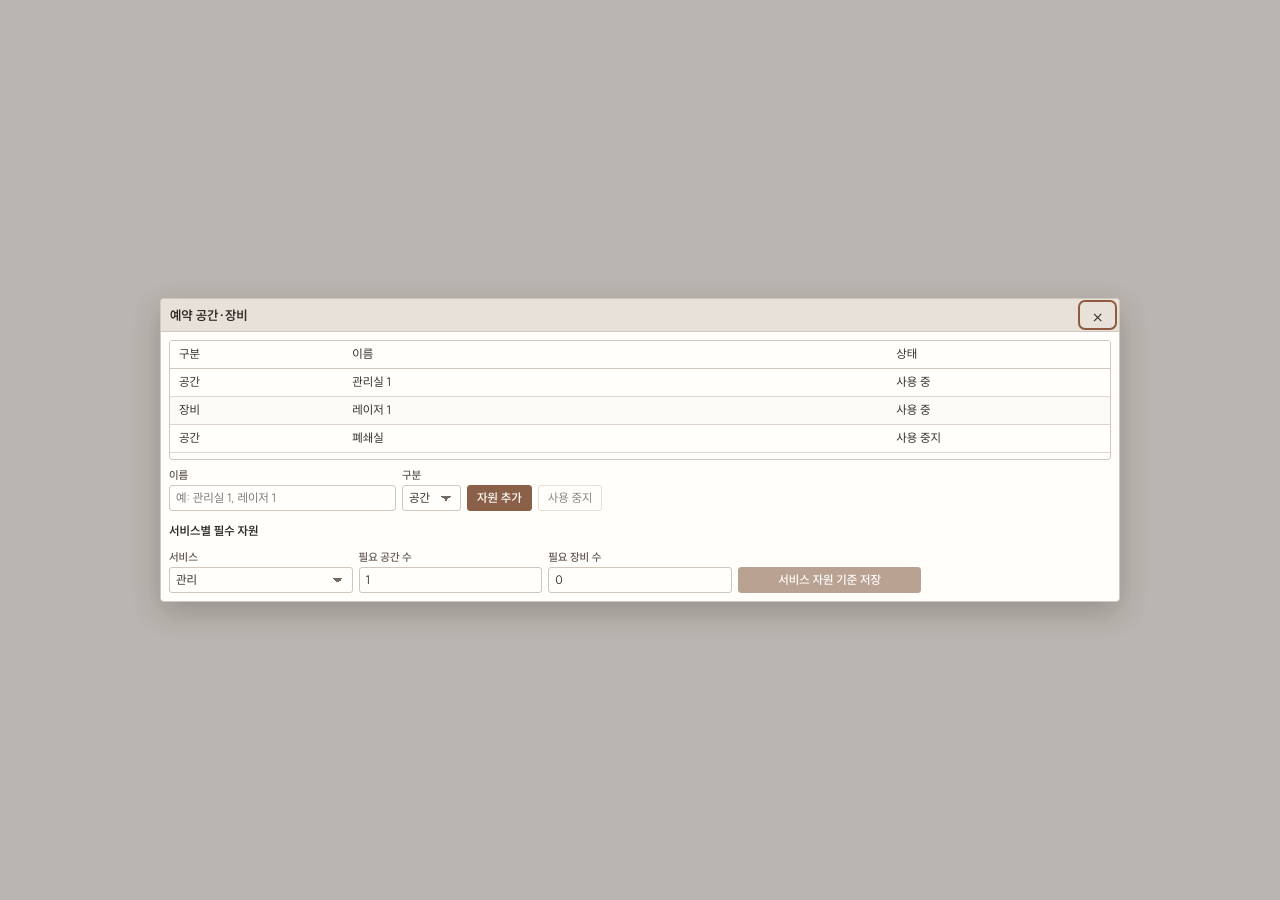
Scenario: ResourceManagerDialog › 빈 이름은 보내지 않는다
expect the text "관리실 1" is shown: met, box [343,369,887,397]
Step 1. Click the button "자원 추가" → [499, 498], box [467,485,532,511]
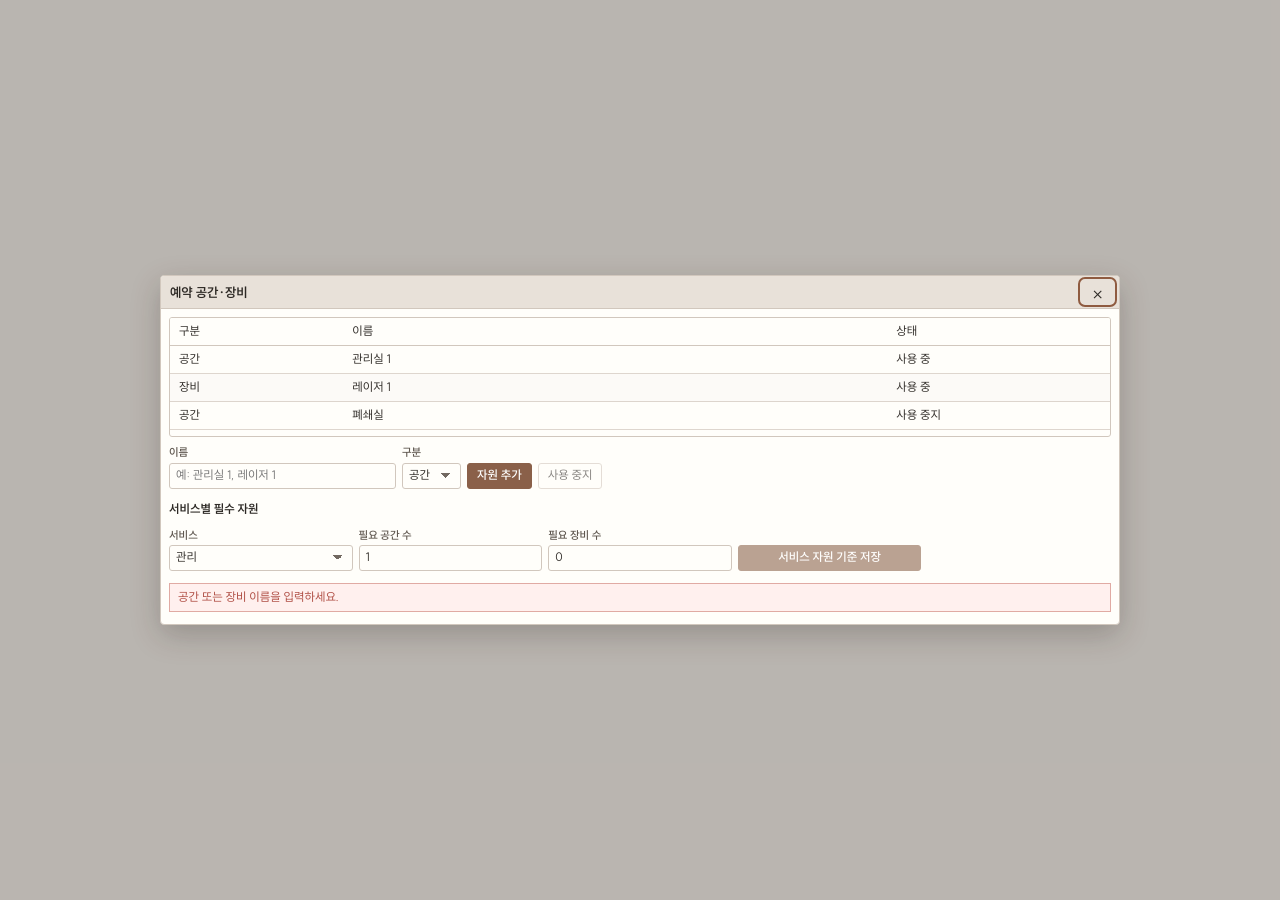
expect the text "공간 또는 장비 이름을 입력하세요." is shown: met, box [169,583,1111,612]
